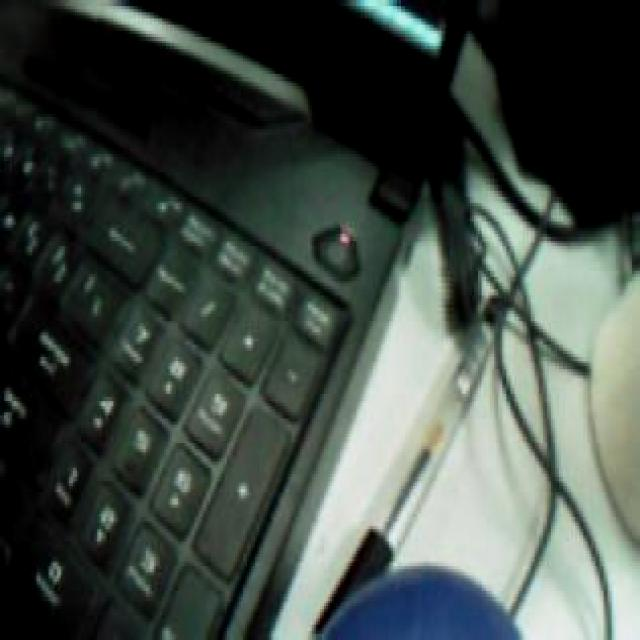BallPurple: (318, 560, 520, 640)
